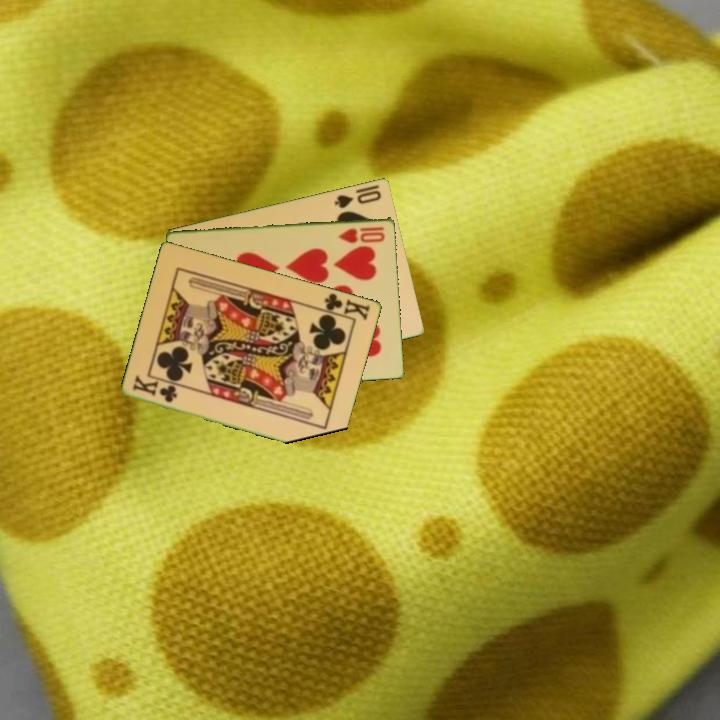10h: (335, 223, 388, 245)
10s: (331, 186, 384, 211)
Kc: (316, 289, 373, 323), (129, 373, 180, 405)
